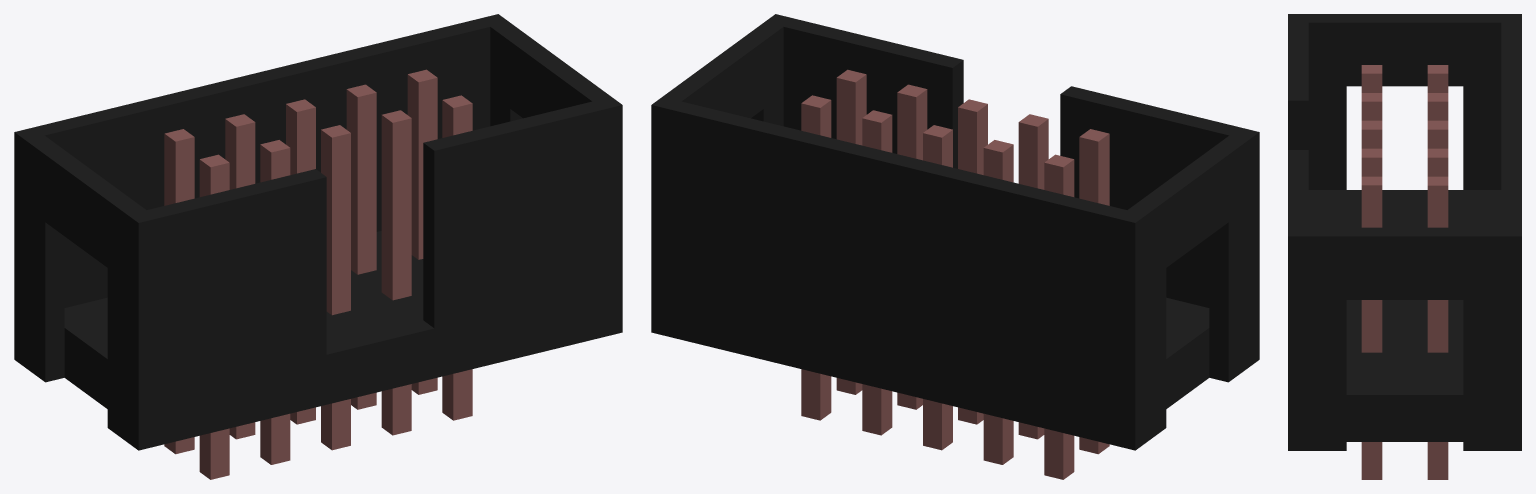
Rendered from 5x2 Ribbon Cable Connector.obj.
3 renders of one model, left to right at view 1: azimuth 30°, elevation 25°; view 2: azimuth 150°, elevation 25°; view 3: azimuth 270°, elevation 25°, orthographic. The views are drawn at different scales.
Visible parts, largest first — view 1: 5x2_Ribbon_Cable_Connector; view 2: 5x2_Ribbon_Cable_Connector; view 3: 5x2_Ribbon_Cable_Connector.
Part boxes in pixels (x1,y1,x2,y2): 5x2_Ribbon_Cable_Connector: (14, 14, 622, 479); 5x2_Ribbon_Cable_Connector: (651, 14, 1259, 479); 5x2_Ribbon_Cable_Connector: (1288, 14, 1521, 479).
Bounding box in the file's own units: 0.0181 × 0.0112 × 0.00803.
